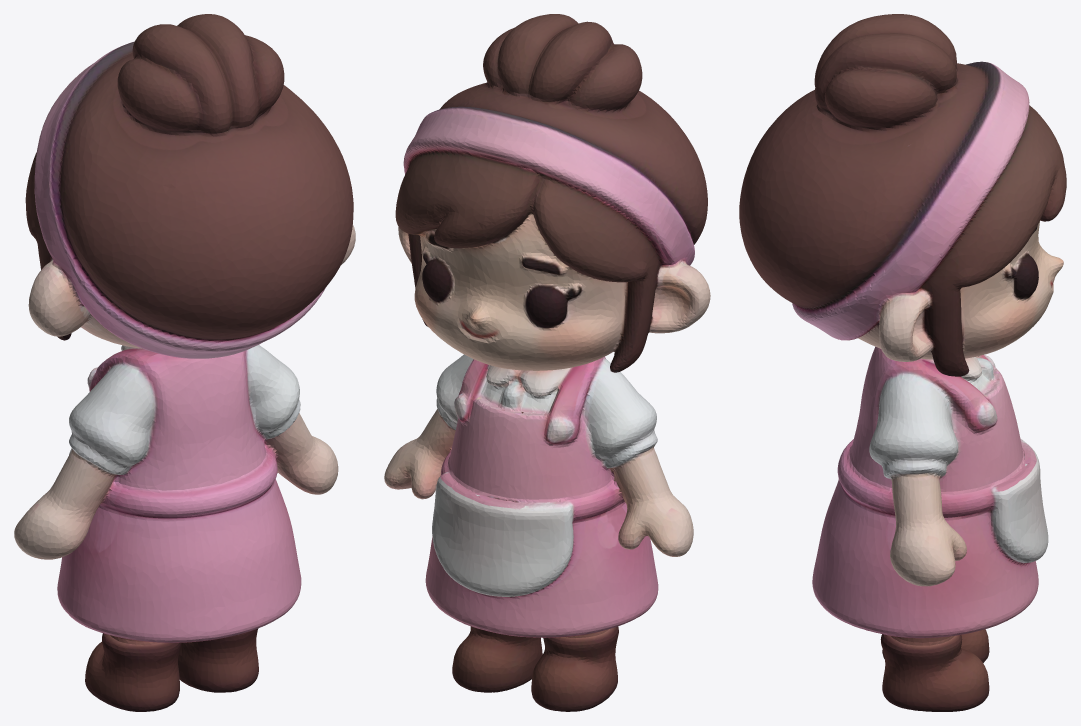
File: marta.glb
3 renders of one model, left to right at view 1: azimuth 30°, elevation 25°; view 2: azimuth 150°, elevation 25°; view 3: azimuth 270°, elevation 25°, orthographic. The views are drawn at different scales.
Parts seen in each view (by area): view 1: Marta; view 2: Marta; view 3: Marta.
Part boxes in pixels (bbox=[...]): Marta: bbox=[14, 14, 355, 711]; Marta: bbox=[384, 14, 710, 711]; Marta: bbox=[739, 14, 1066, 711].
Size of the model in its own units: 0.9768 by 1.96 by 0.8937.
1 material, 1 textured.
